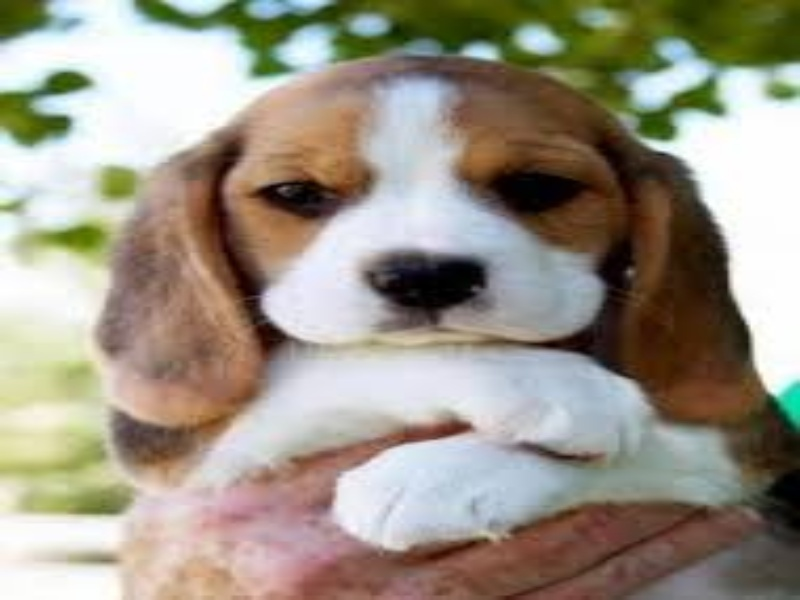dog: (93, 54, 798, 598)
